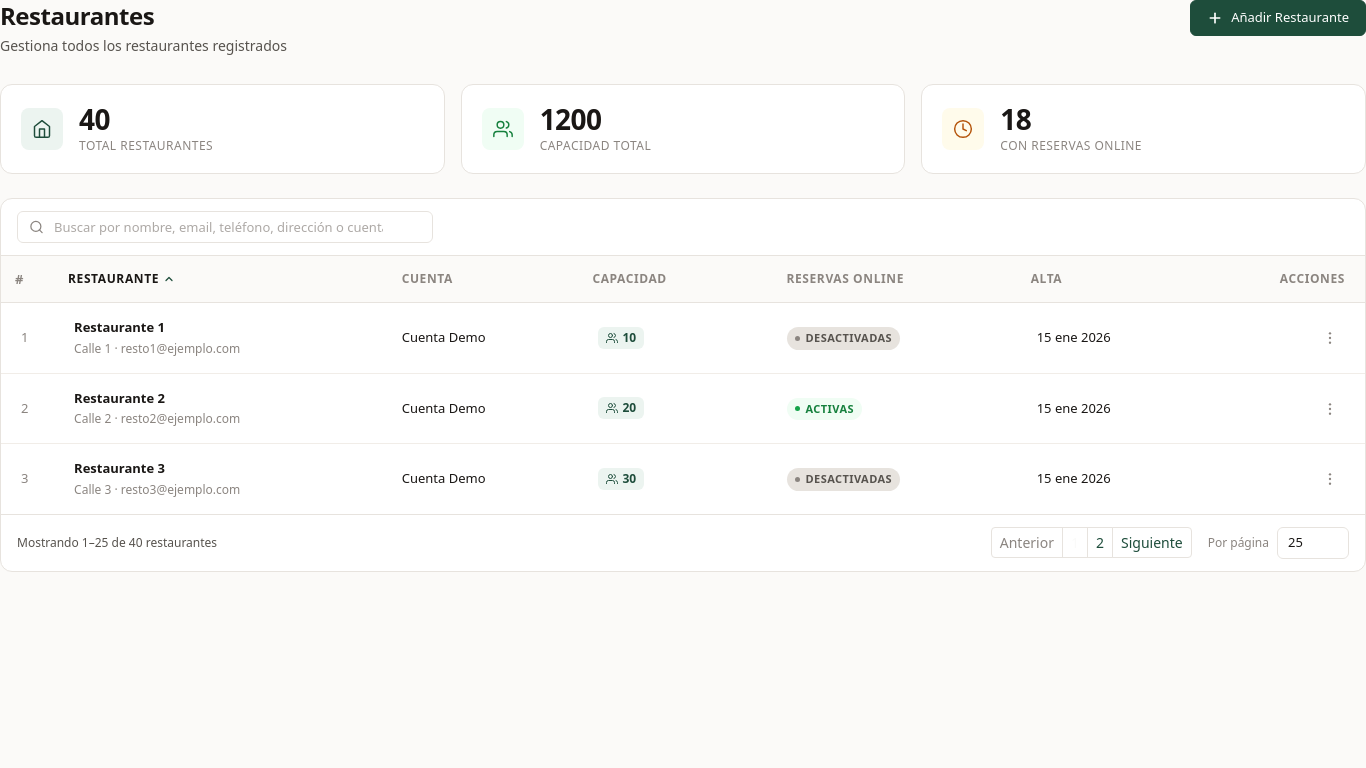
Test: Restaurantes — menú de acciones › cierra el detalle
Expected: the text "Restaurante 1" is shown, [74, 318, 165, 336]
Click the button named "Acciones de": coordinates (1330, 338) [1315, 323, 1345, 353]
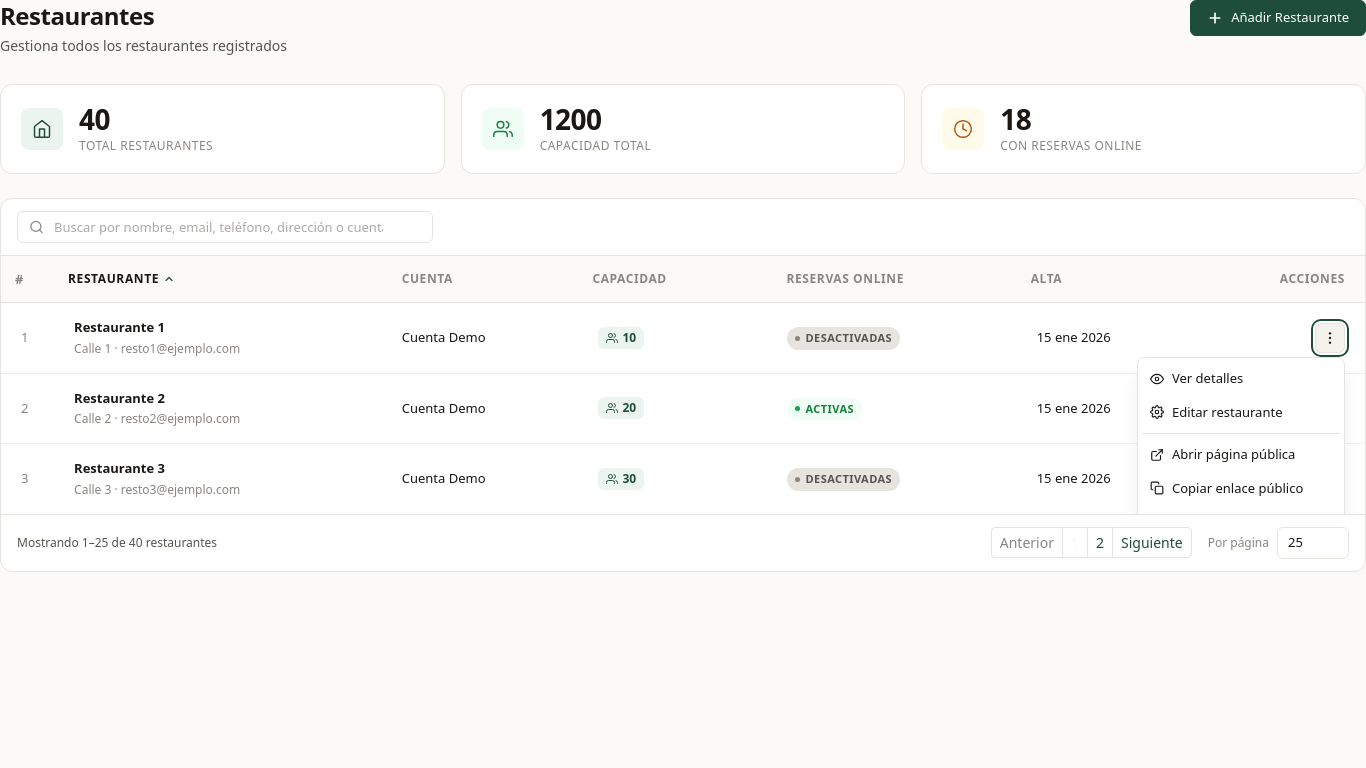
Click the menu item "Ver detalles": coordinates (1241, 379) [1142, 362, 1340, 396]
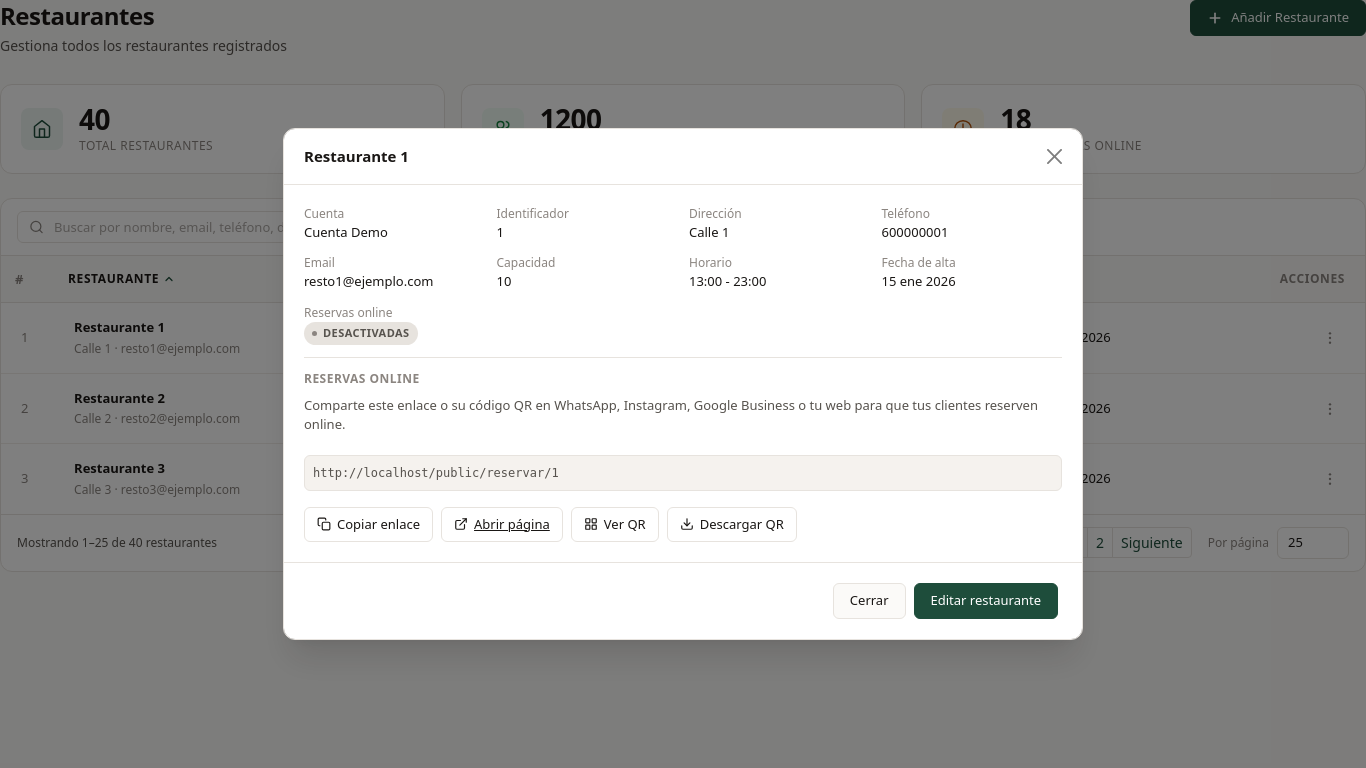
Click the button "Cerrar": coordinates (869, 601) [833, 583, 906, 619]
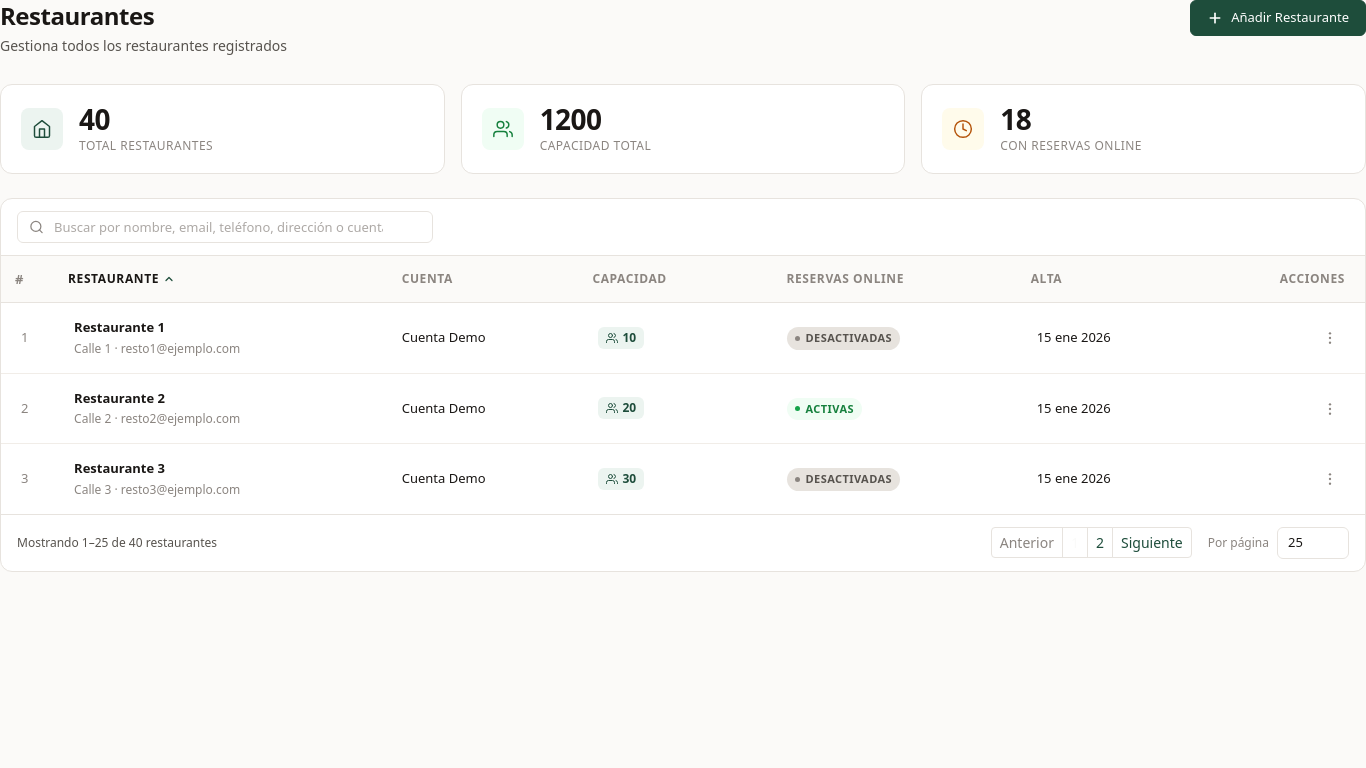
Result: the dialog is gone
